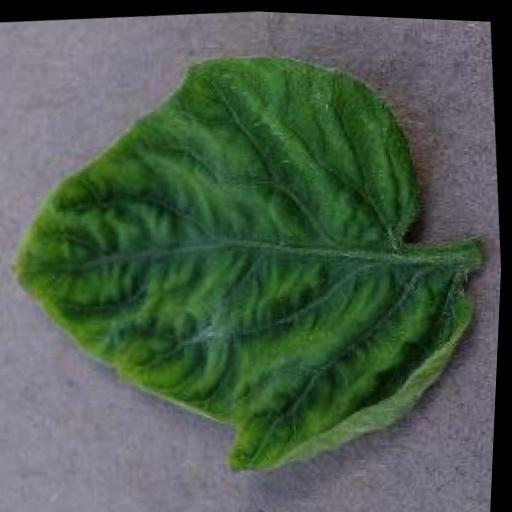Yellow Leaf Curl Virus: (0, 25, 505, 502)
